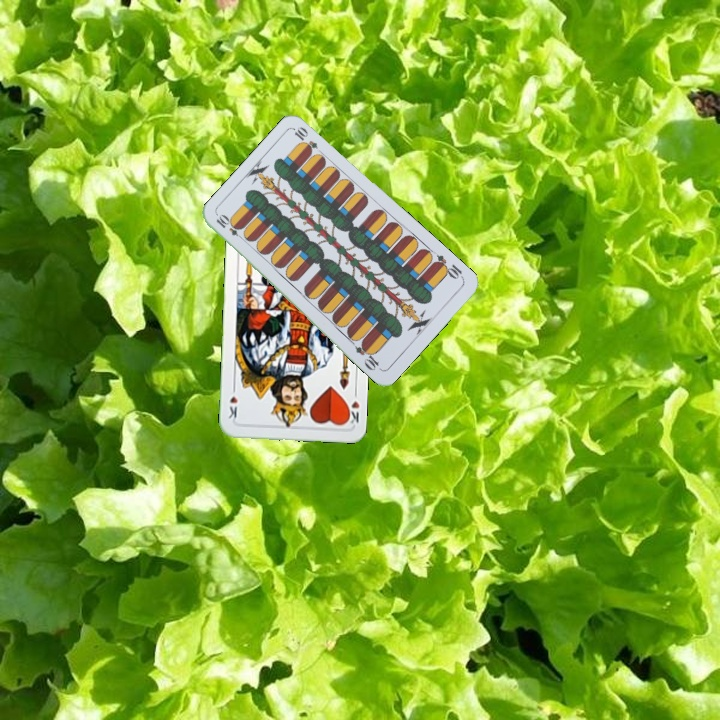E10: (212, 211, 248, 243), (429, 251, 466, 282)
HK: (342, 386, 362, 427)
